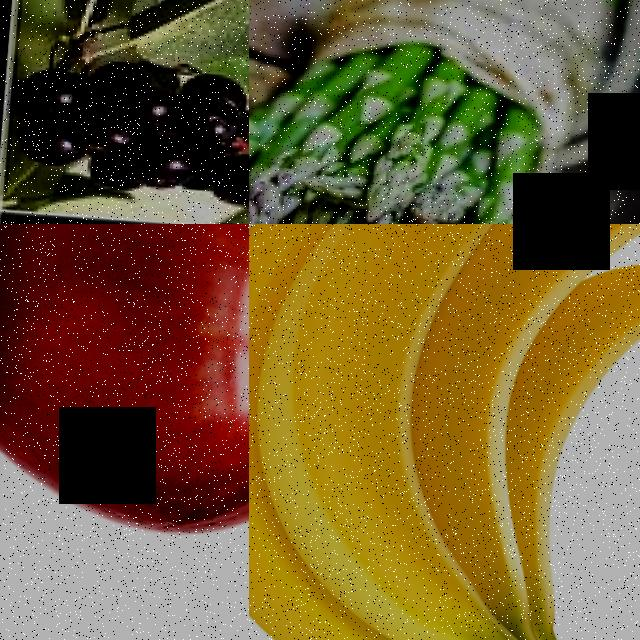apple: (0, 224, 249, 569)
asparagus: (355, 69, 426, 224), (249, 74, 317, 224), (447, 144, 543, 224)
banana: (249, 224, 640, 640)
